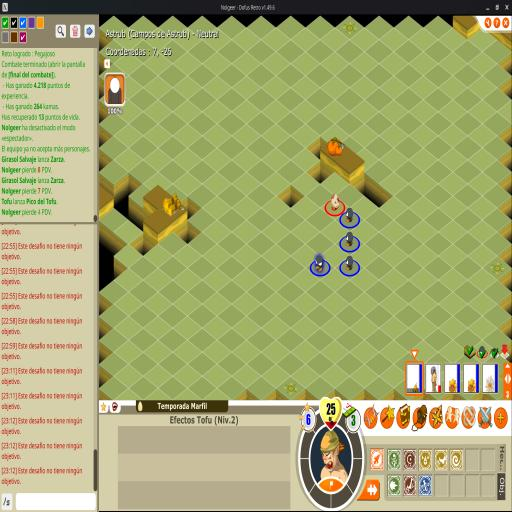Enemigos: (314, 254, 324, 272), (345, 206, 354, 224), (345, 230, 354, 248), (345, 255, 354, 271)
Personaje: (330, 193, 341, 211)
